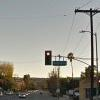Traffic light: (33, 45, 57, 70)
